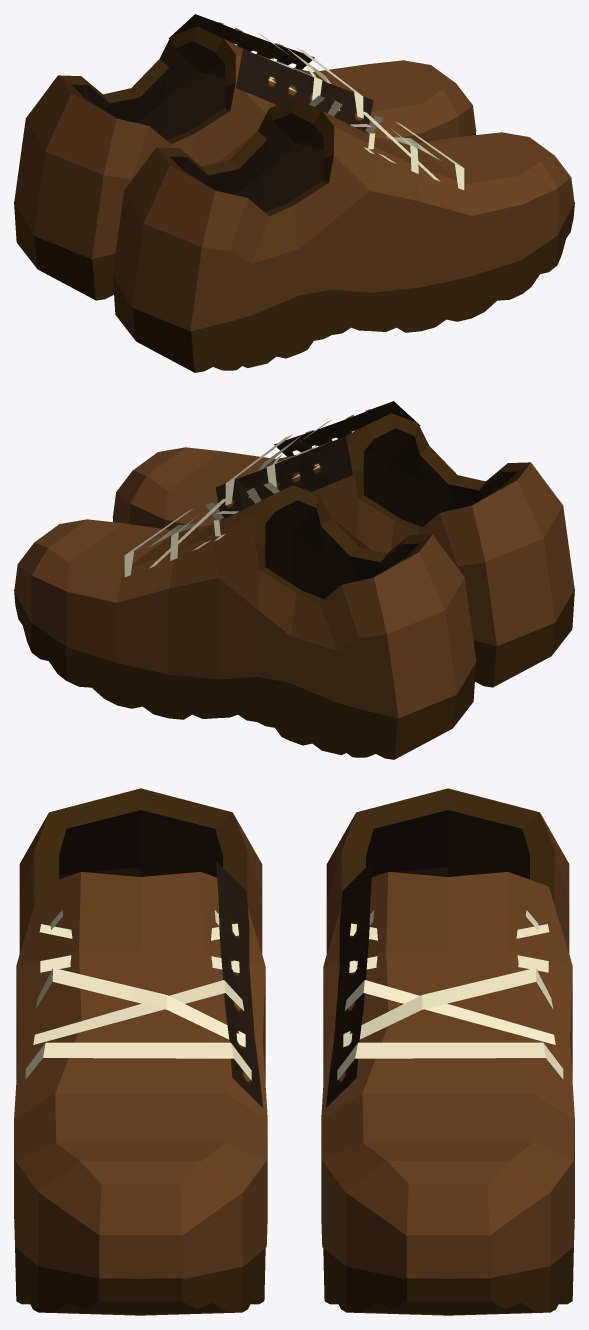
3 views of the same model, one above another, from view 1: azimuth 30°, elevation 25°; view 2: azimuth 150°, elevation 25°; view 3: azimuth 270°, elevation 25° (orthographic). The views are drawn at different scales.
Visible parts, largest first — view 1: schuh.001, schuh; view 2: schuh, schuh.001; view 3: schuh, schuh.001.
Part boxes in pixels (x1=…): schuh.001: x1=112, y1=95, x2=574, y2=372; schuh: x1=14, y1=14, x2=476, y2=300; schuh: x1=14, y1=482, x2=476, y2=759; schuh.001: x1=112, y1=401, x2=574, y2=687; schuh: x1=321, y1=788, x2=574, y2=1315; schuh.001: x1=14, y1=788, x2=267, y2=1315.
Bounding box in the file's own units: 5.05 × 2.41 × 3.66.
